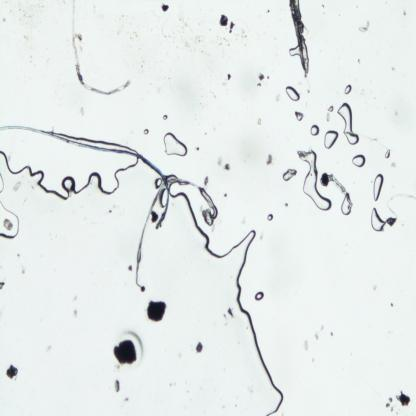Air bubble: (196, 225, 284, 415), (0, 156, 138, 248), (296, 147, 332, 211), (338, 102, 359, 146), (162, 132, 189, 158), (370, 207, 386, 231), (373, 173, 384, 201), (324, 131, 339, 149), (286, 87, 300, 103), (352, 153, 366, 168), (340, 195, 350, 215), (283, 169, 297, 181), (289, 45, 300, 58), (295, 110, 305, 123), (254, 290, 264, 302), (310, 124, 320, 136), (344, 83, 352, 96), (327, 104, 334, 113), (384, 150, 390, 160), (267, 213, 273, 221), (143, 128, 149, 135), (163, 113, 168, 121)
Background material: (111, 331, 144, 372), (178, 15, 208, 51), (147, 298, 168, 325), (394, 388, 413, 408), (4, 363, 18, 382), (312, 322, 325, 340), (217, 157, 231, 173), (222, 307, 235, 322), (360, 20, 371, 35), (256, 74, 267, 88), (70, 305, 80, 319), (386, 396, 394, 412), (113, 379, 121, 394), (219, 16, 229, 27), (266, 152, 273, 166), (196, 341, 203, 355), (151, 211, 159, 223), (162, 3, 170, 15), (229, 21, 236, 34), (303, 339, 309, 353), (203, 177, 209, 191), (0, 280, 6, 292), (226, 73, 232, 82), (126, 264, 132, 273), (257, 116, 262, 126), (222, 193, 228, 198), (265, 7, 270, 12)
Cellulose filter fibre: (136, 176, 219, 292), (70, 0, 132, 94), (286, 0, 310, 73), (383, 192, 416, 220), (324, 172, 351, 203)
Cotton: (0, 124, 169, 228)
